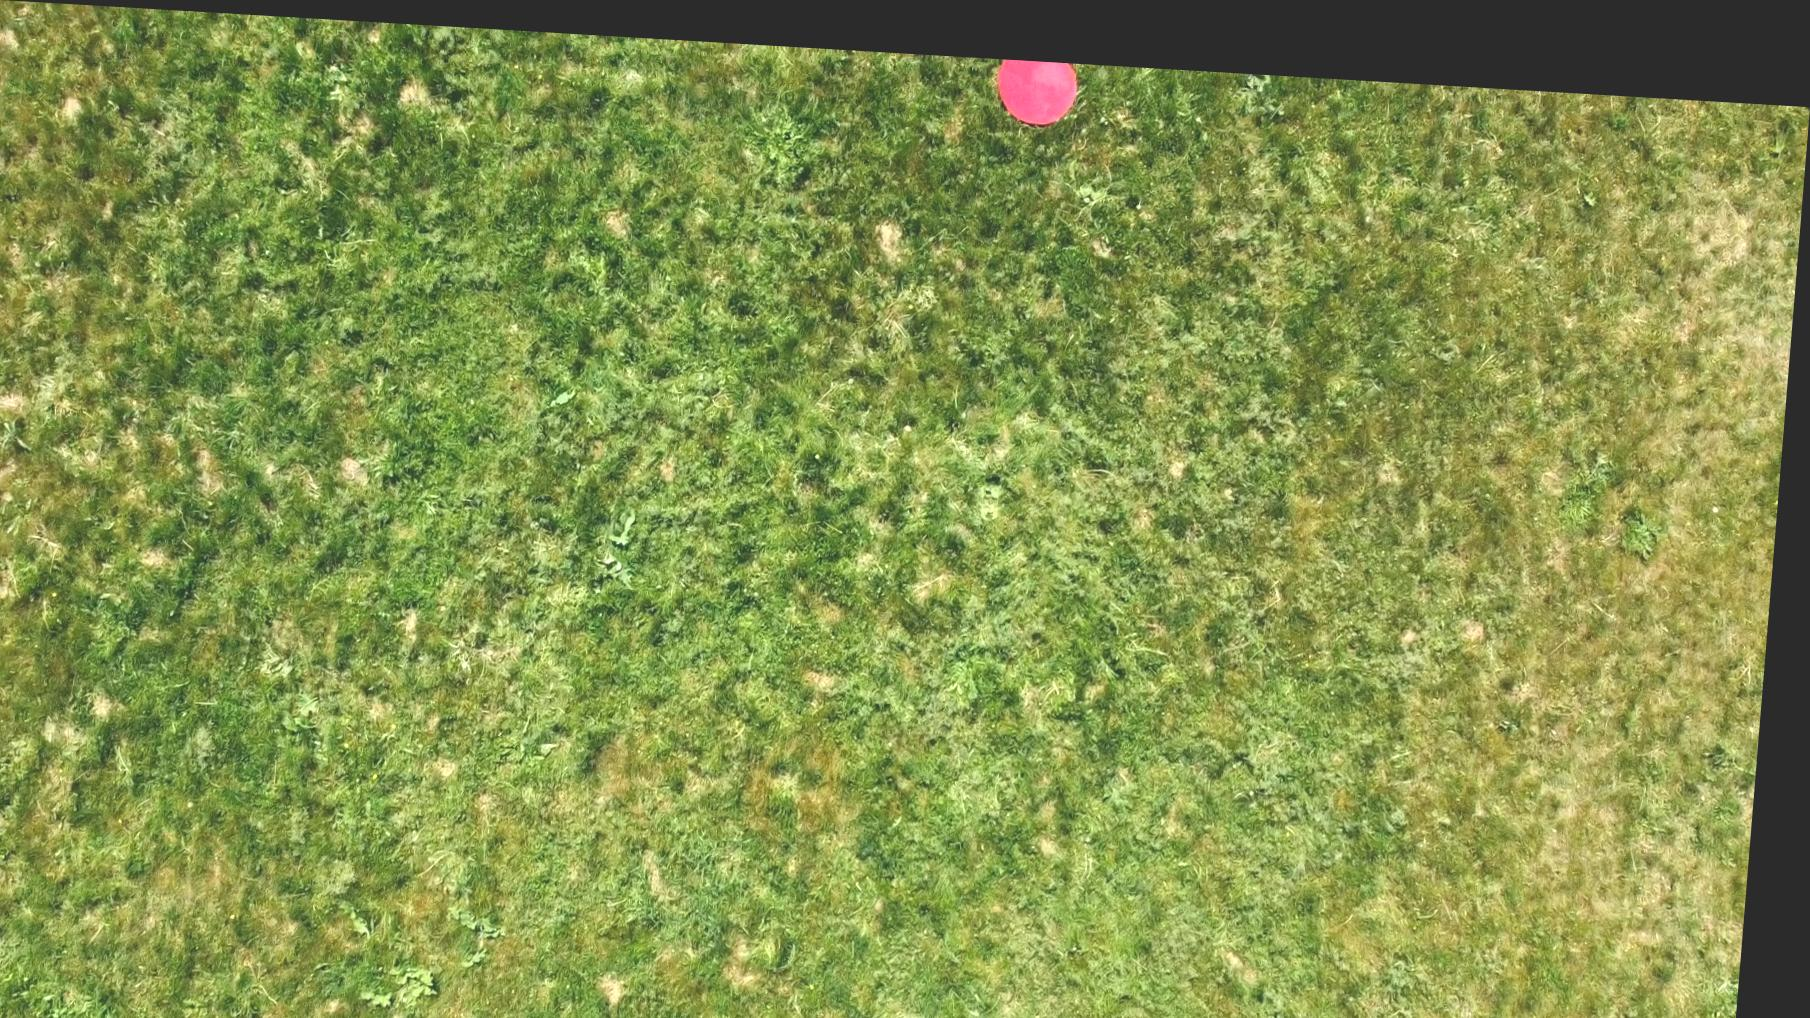Blue: (359, 1014, 460, 1018)
Red: (991, 46, 1084, 119)
